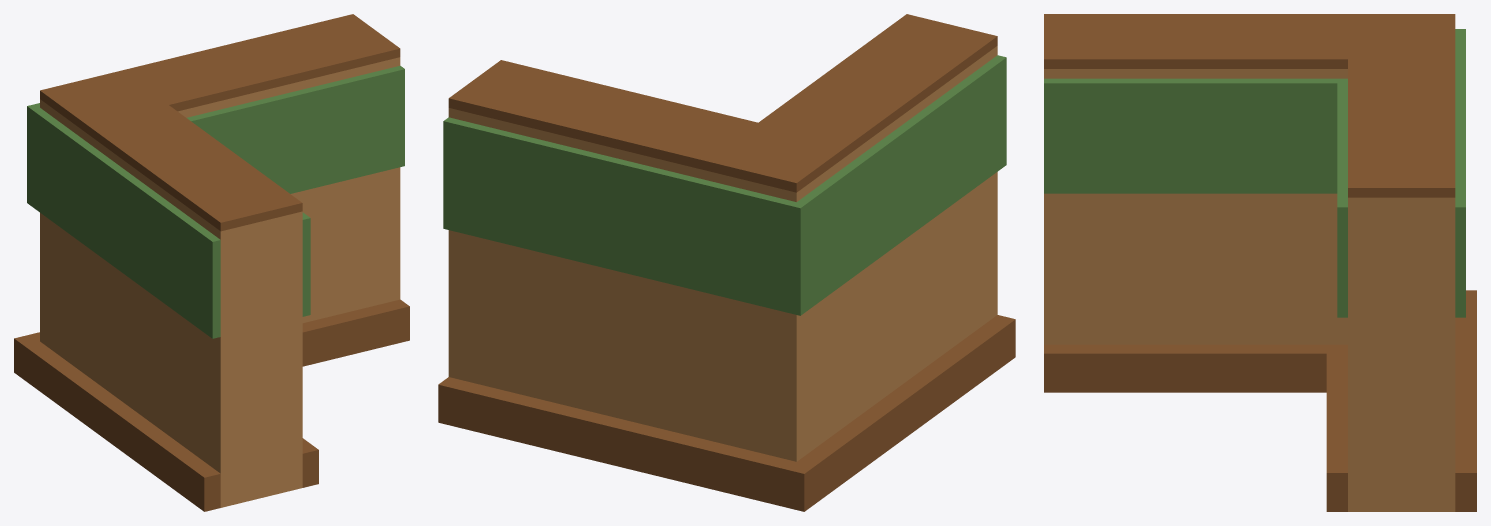
The model's file is partition-elbow.glb.
3 renders of one model, left to right at view 1: azimuth 30°, elevation 25°; view 2: azimuth 150°, elevation 25°; view 3: azimuth 270°, elevation 25°, orthographic. The views are drawn at different scales.
Visible parts, largest first — view 1: partition-elbow; view 2: partition-elbow; view 3: partition-elbow.
Boxes of the visible parts, x1,y1,x2,y2 form: partition-elbow: [14, 14, 409, 511]; partition-elbow: [438, 14, 1015, 511]; partition-elbow: [1044, 14, 1476, 511].
Bounding box in the file's own units: 0.605 × 0.5 × 0.605.
Materials: 1 (1 with a texture image).
